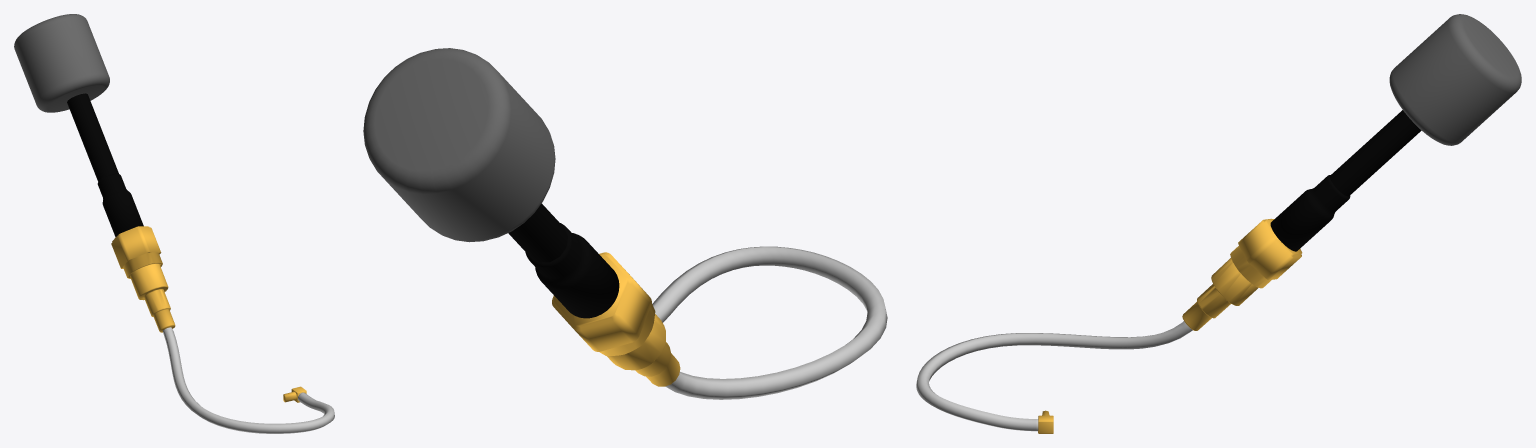
The model's file is vtx_antenna.glb.
3 renders of one model, left to right at view 1: azimuth 30°, elevation 25°; view 2: azimuth 150°, elevation 25°; view 3: azimuth 270°, elevation 25°, orthographic. The views are drawn at different scales.
Visible parts, largest first — view 1: antenna; view 2: antenna; view 3: antenna.
Part boxes in pixels (bbox=[...]): antenna: bbox=[14, 14, 334, 433]; antenna: bbox=[363, 48, 887, 399]; antenna: bbox=[916, 14, 1521, 433].
Bounding box in the file's own units: 0.2384 × 0.5599 × 0.8454.
